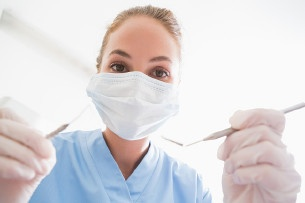Mask: (86, 42, 186, 143)
